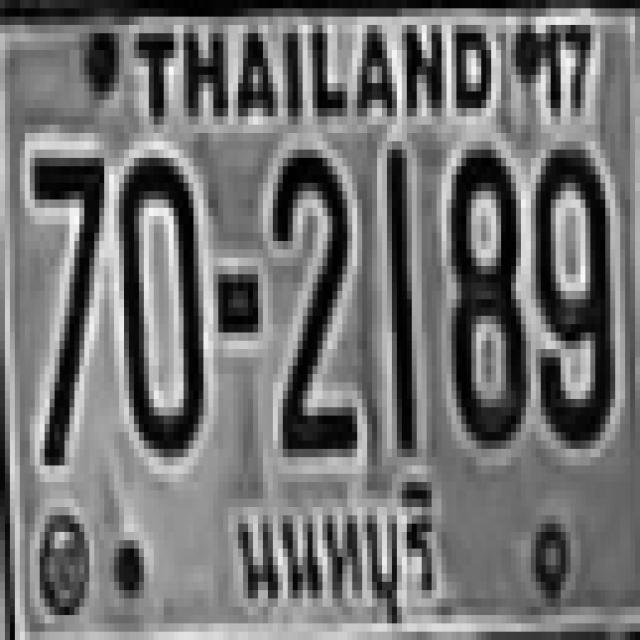0: (117, 150, 201, 448)
1: (384, 141, 414, 449)
2: (273, 141, 352, 449)
7: (30, 150, 99, 457)
8: (446, 142, 521, 440)
9: (531, 142, 610, 440)
Nonthaburi: (230, 482, 443, 626)
